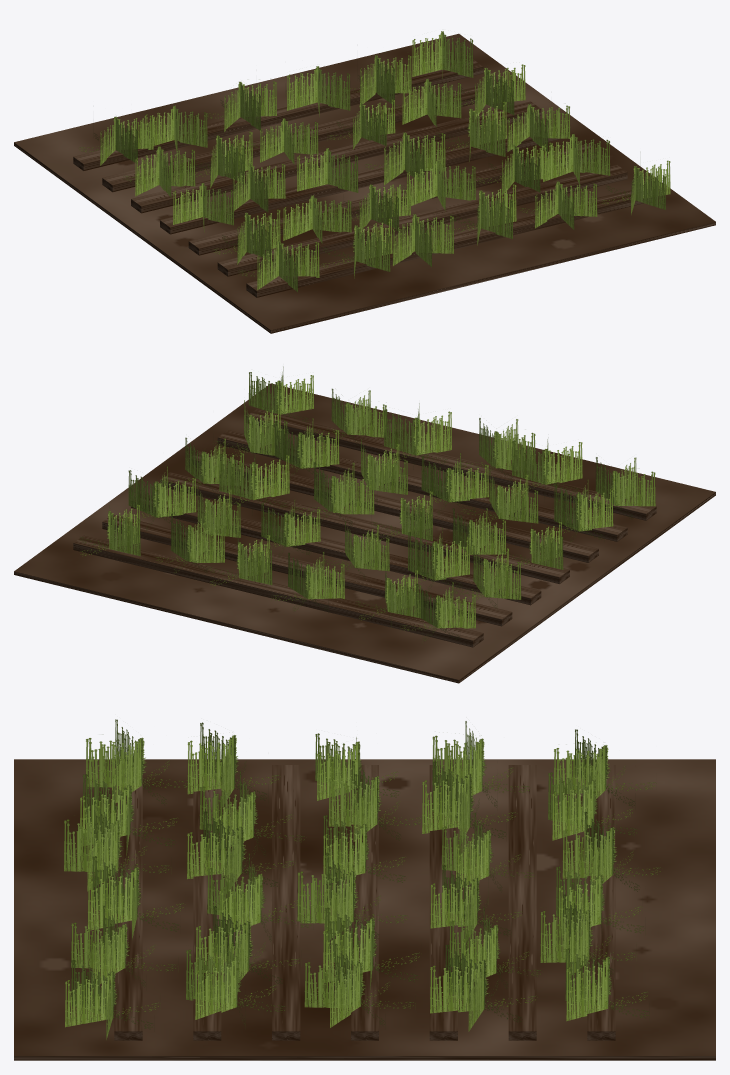
Rendered from nodo-farm-e4-C1h46P2A.glb.
3 renders of one model, top to bottom at view 1: azimuth 30°, elevation 25°; view 2: azimuth 150°, elevation 25°; view 3: azimuth 270°, elevation 25°, orthographic. The views are drawn at different scales.
Visible parts, largest first — view 1: suelo_y_surcos, cultivo; view 2: suelo_y_surcos, cultivo; view 3: suelo_y_surcos, cultivo.
Boxes of the visible parts, x1,y1,x2,y2 form: suelo_y_surcos: (14,33,715,333); cultivo: (79,31,670,292); suelo_y_surcos: (14,383,715,683); cultivo: (80,366,655,641); suelo_y_surcos: (14,759,715,1060); cultivo: (64,719,660,1039).
Size of the model in its own units: 47.2 by 5.16 by 47.2.
Materials: 2 (2 with a texture image).
